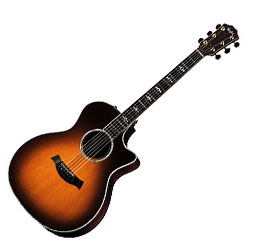guitar: (9, 24, 240, 237)
